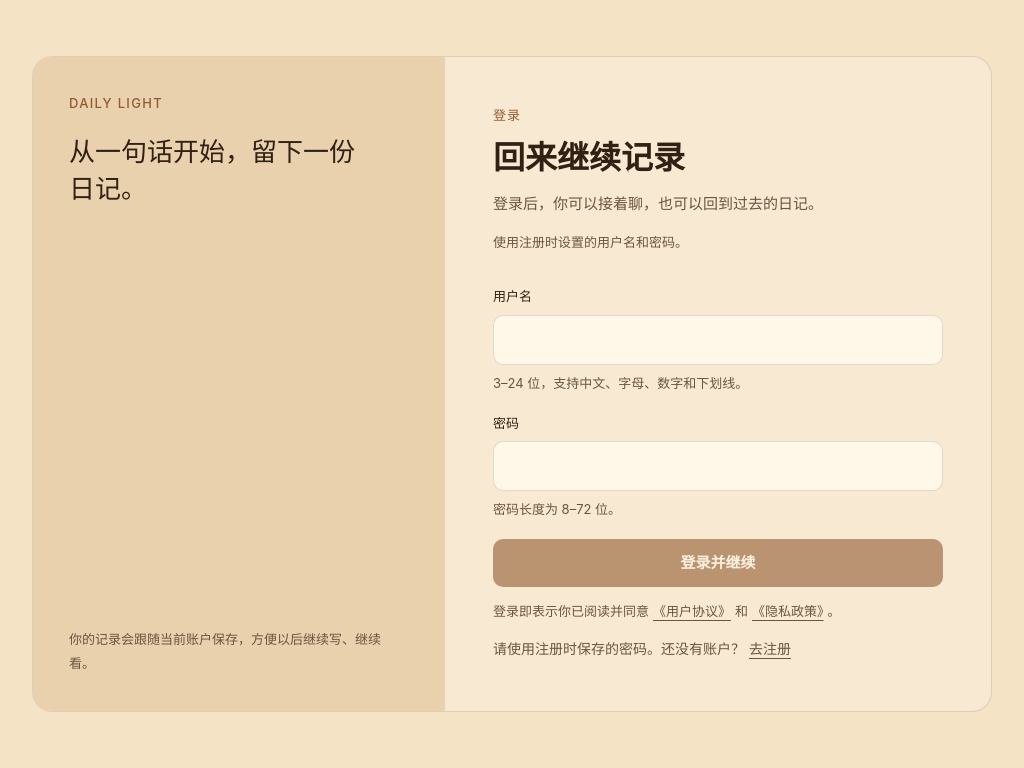
Test: auth page client navigation › shows only the localized login error copy when login fails
In the field labelled "用户名": (718, 340) [493,315,943,365], type "daily_light_01"
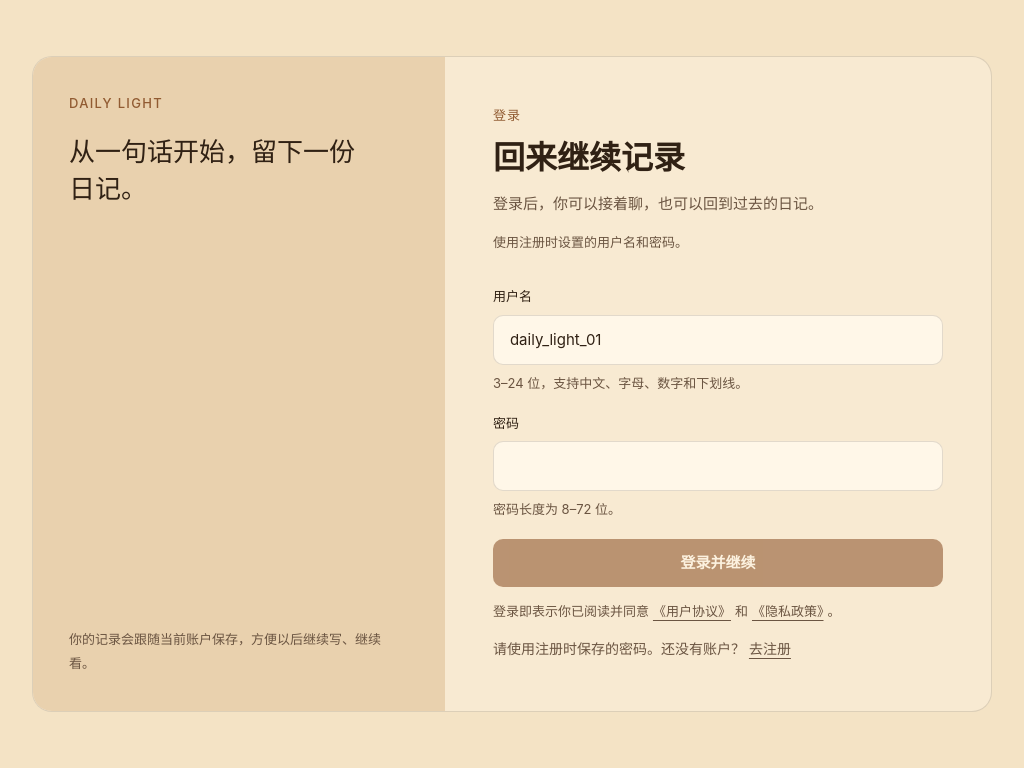
In the password field labelled "密码": (718, 466) [493,441,943,491], type "supersecret1"
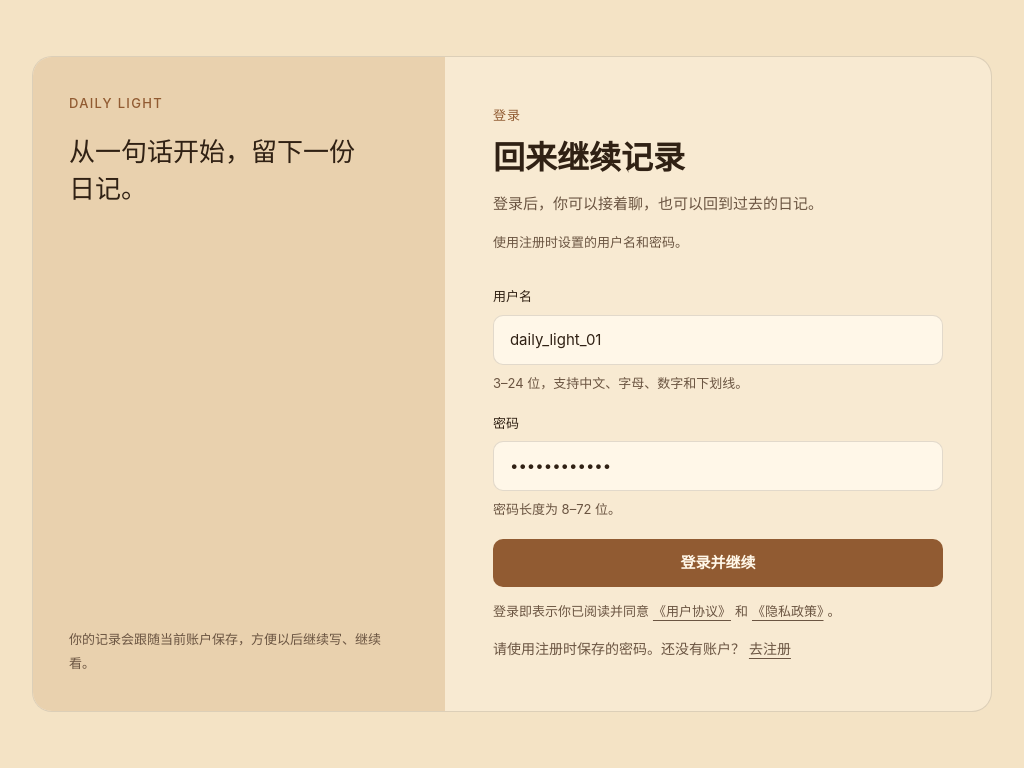
Click the button "登录并继续": (718, 563) [493,539,943,587]
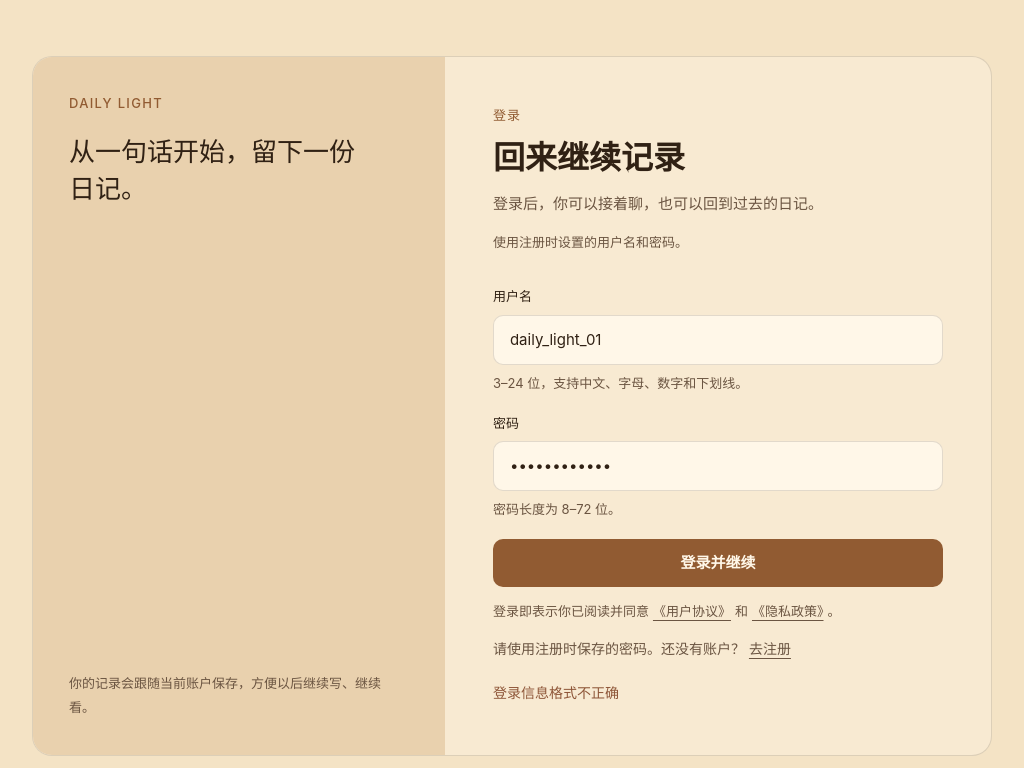
Now the message reads "登录信息格式不正确", box [493,684,619,701]
Focus the field labelled "用户名": (718, 340) [493,315,943,365]
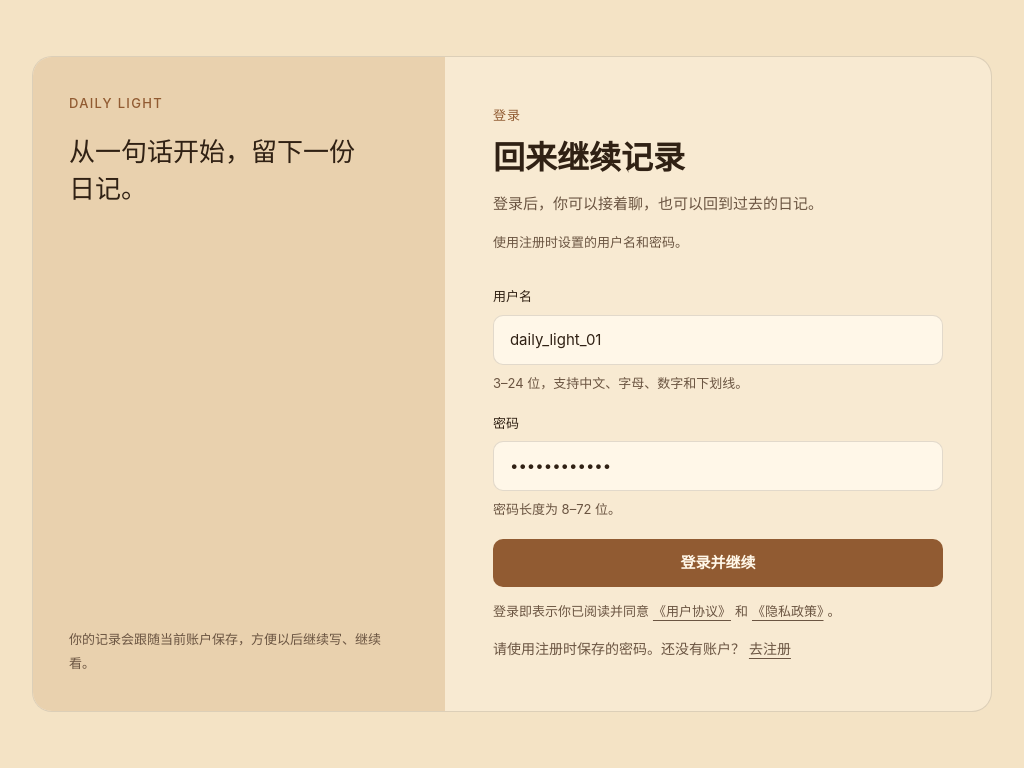
Now the message "登录信息格式不正确" is gone
